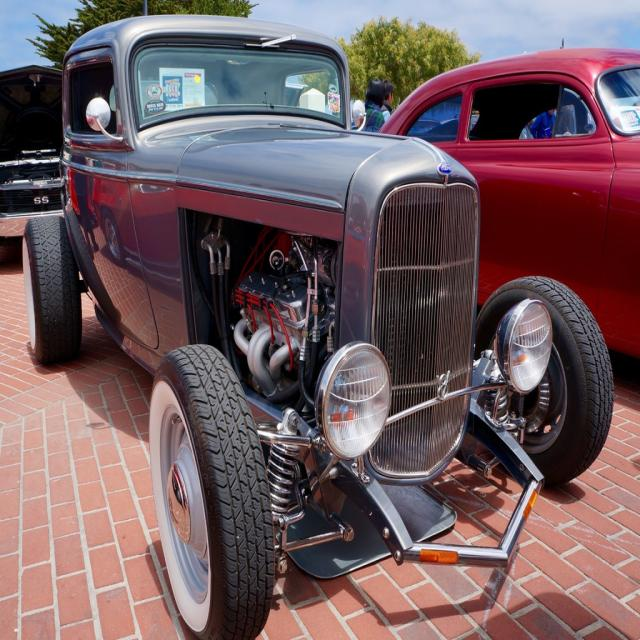car: (28, 35, 616, 615)
